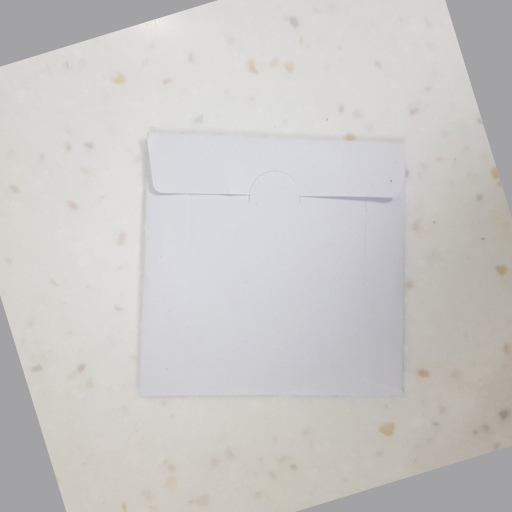Paper_2: (130, 121, 426, 408)
